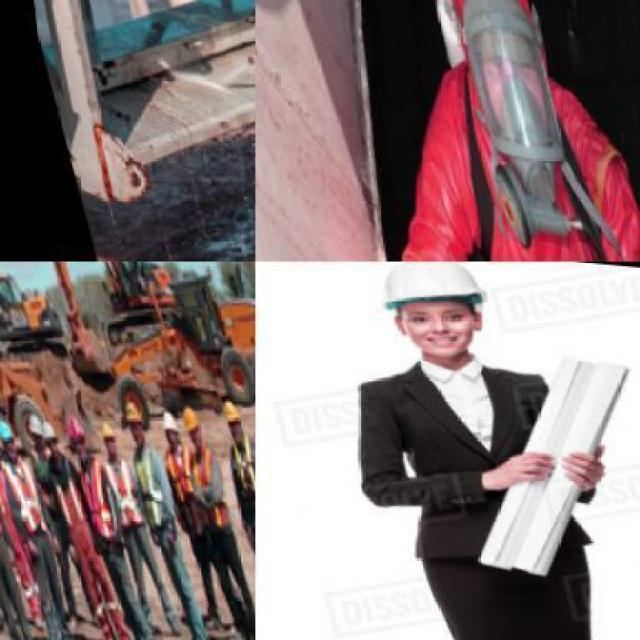vest: (376, 14, 638, 260), (89, 438, 143, 524), (65, 446, 112, 537), (0, 446, 48, 532), (119, 440, 170, 520), (152, 434, 197, 518), (178, 432, 222, 517)
